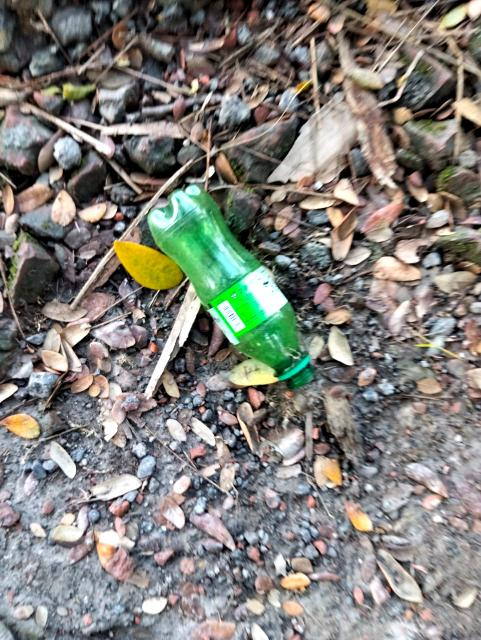bottle: (120, 159, 341, 418)
